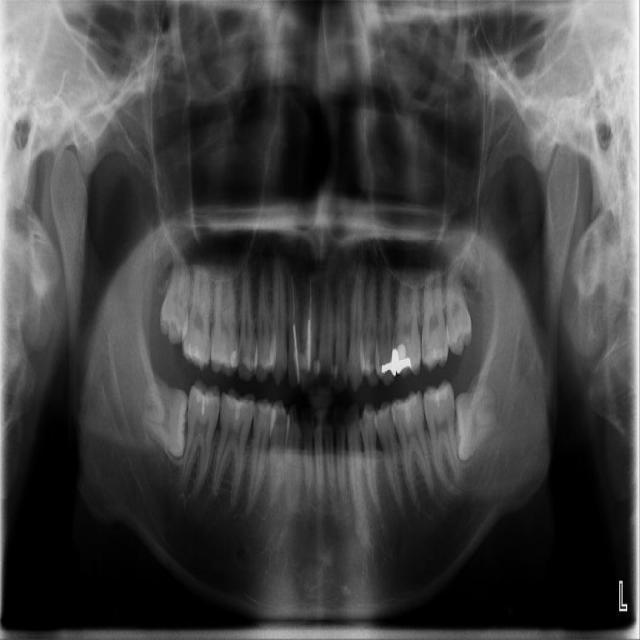3M ESPE Implant: (159, 252, 193, 345)
52: (374, 342, 414, 381), (192, 379, 222, 415), (391, 390, 418, 422), (220, 391, 248, 421), (427, 383, 452, 408), (292, 351, 313, 373), (182, 342, 202, 359), (230, 350, 239, 369), (314, 360, 321, 375), (334, 365, 338, 378), (331, 365, 333, 373)
73: (285, 272, 302, 350), (303, 273, 317, 359), (566, 560, 572, 570)
BioHorizons Implant: (421, 253, 449, 372)
BioLife Implant: (444, 259, 472, 356)
Biomet 3i Implant: (453, 385, 502, 461)
Caries: (180, 263, 218, 372)
Implant: (170, 377, 225, 497)
Keystone Dental Implant: (143, 381, 189, 459)
